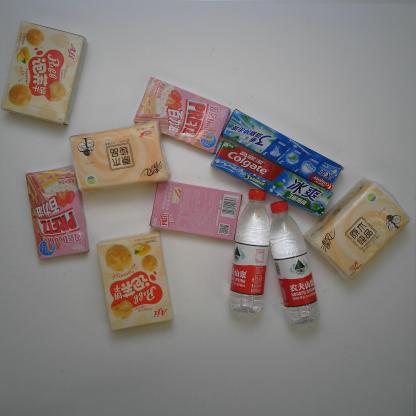Dessert: (0, 20, 88, 127), (133, 76, 231, 155), (97, 231, 173, 331), (25, 164, 90, 261), (149, 181, 243, 241)
Drink: (270, 200, 320, 326), (229, 188, 270, 315)
Personal Hygiene: (221, 109, 344, 191), (210, 140, 333, 220)
Tissue: (301, 177, 410, 280), (68, 119, 170, 193)
